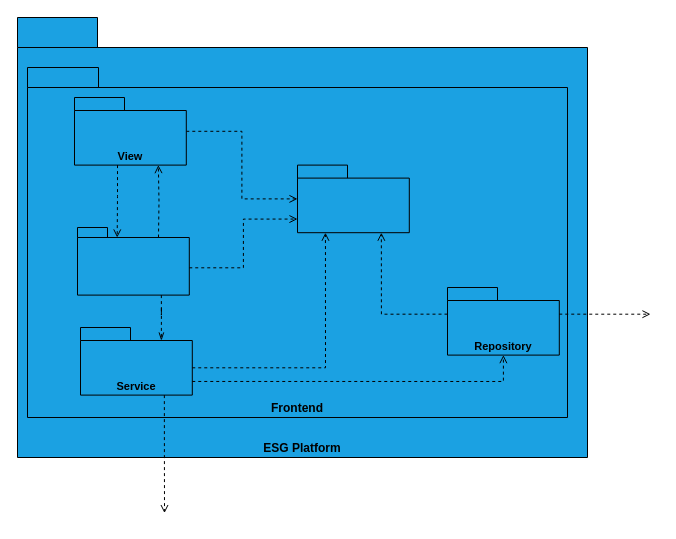
This 676x539 diagram has some shape labels left out. The shapes that lost their labels are listed below. From the top down, each one's centre as x and y in pixels, then its label:
(x=352, y=198): DTO
(x=132, y=260): Component
